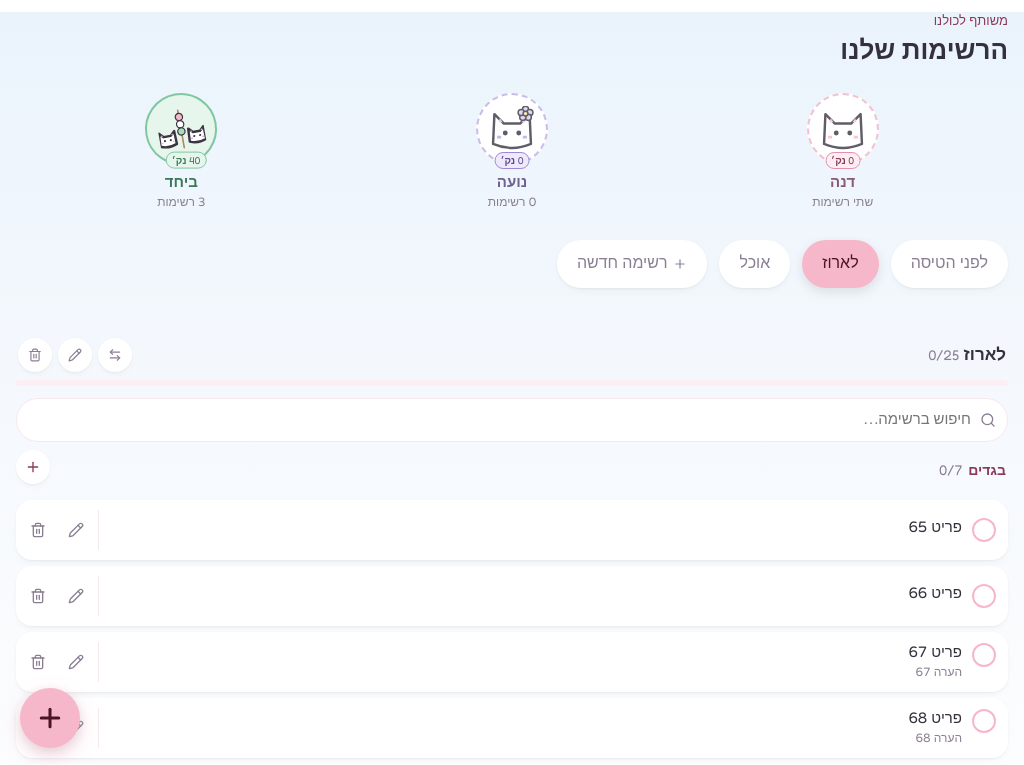
Test: whose lists › goes back to the open list’s group when the new list is cancelled
This screenshot has width=1024, height=765.
Step 1. Click the button "0 נק׳ נועה 0 רשימות" → (512, 152), box [472,88,552,216]
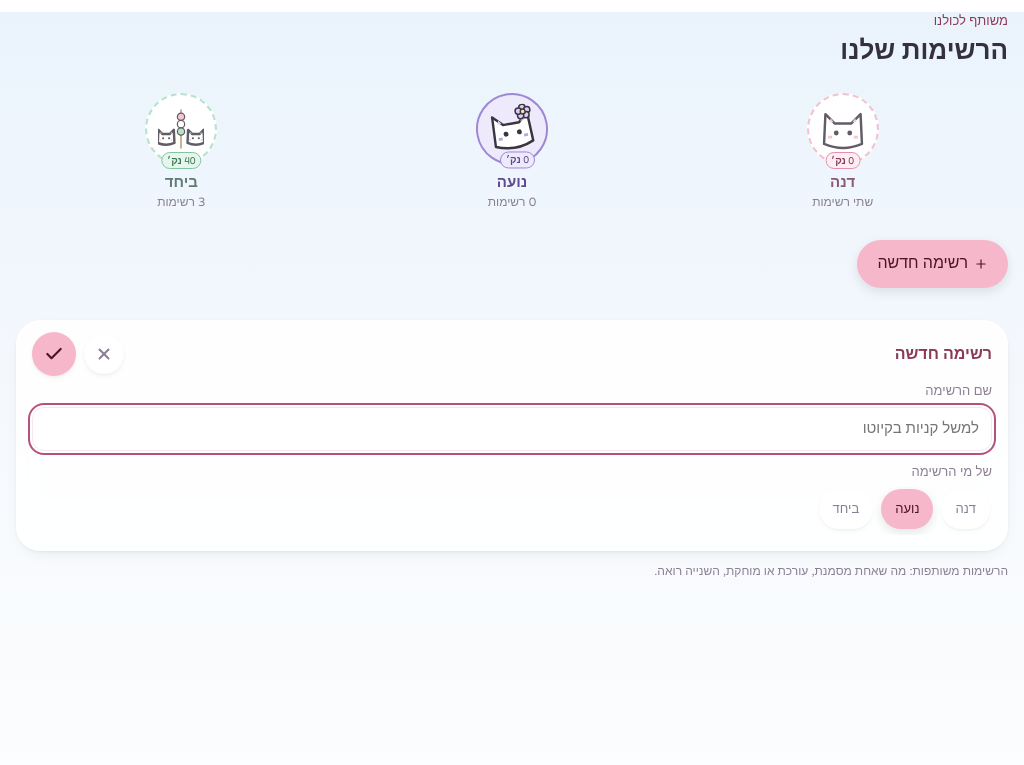
Step 2. Click the button named "ביטול" → (104, 354), box [84,334,124,374]
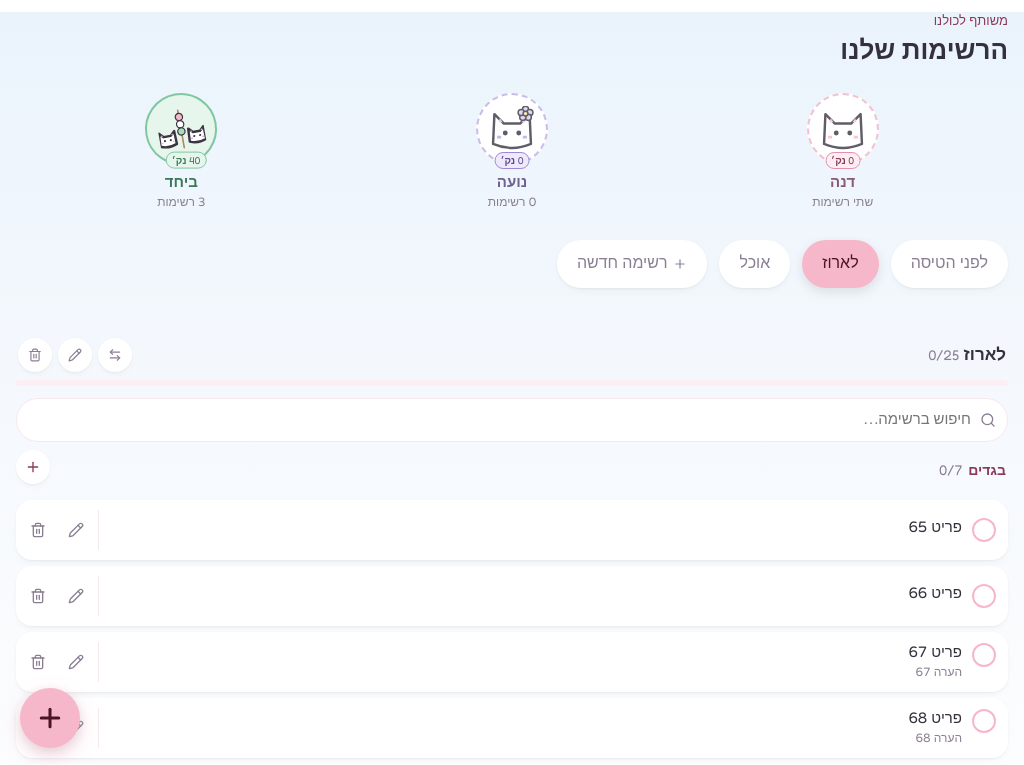
Expected: the label "שם הרשימה" is gone
